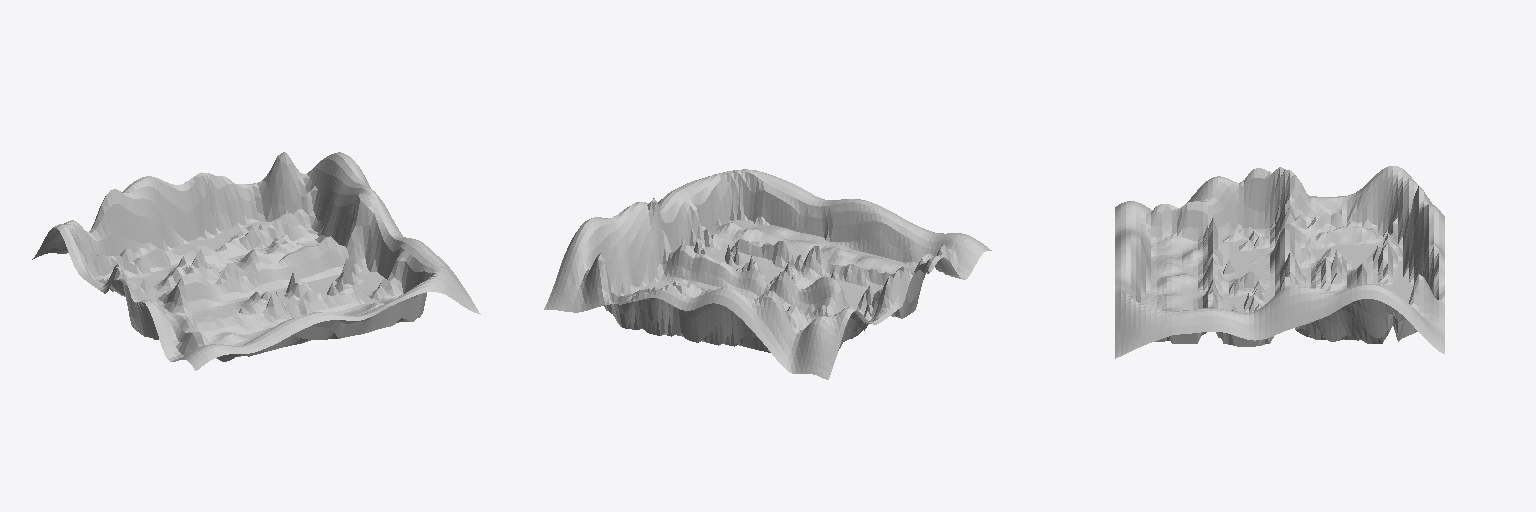
The model's file is terrain3DModel.obj.
3 renders of one model, left to right at view 1: azimuth 30°, elevation 25°; view 2: azimuth 150°, elevation 25°; view 3: azimuth 270°, elevation 25°, orthographic.
Parts seen in each view (by area): view 1: Terrainobj.005; view 2: Terrainobj.005; view 3: Terrainobj.005.
Part boxes in pixels (bbox=[...]): Terrainobj.005: bbox=[32, 152, 480, 370]; Terrainobj.005: bbox=[544, 169, 991, 379]; Terrainobj.005: bbox=[1115, 166, 1444, 358].
Size of the model in its own units: 84.48 by 20.61 by 84.48.